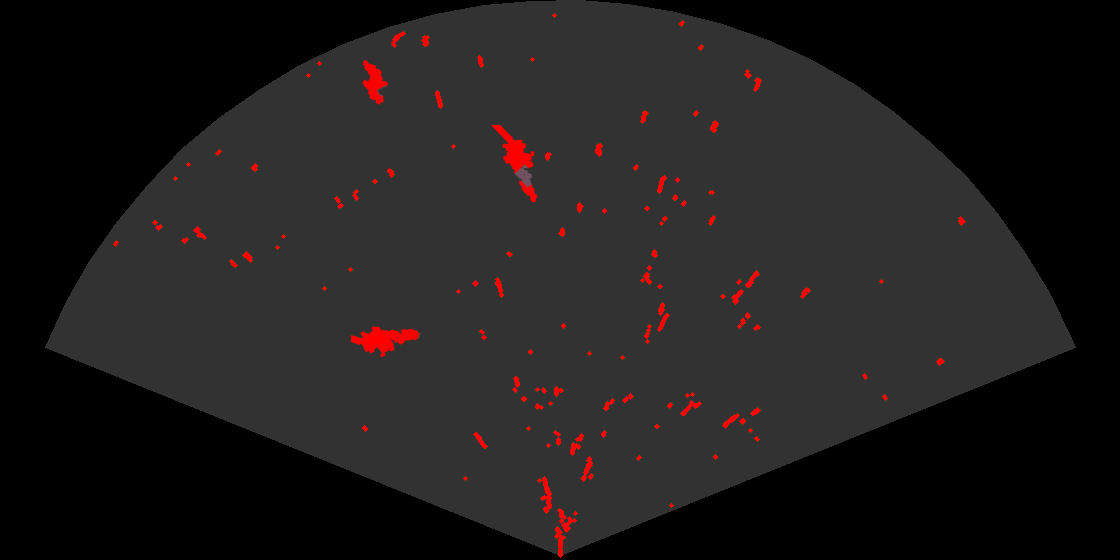AUV: (361, 58, 390, 106)
frogman: (490, 125, 539, 204), (351, 325, 421, 359)
